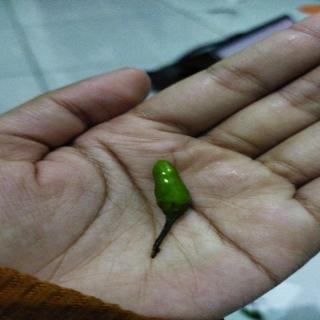Cabai Hijau: (147, 157, 195, 264)
